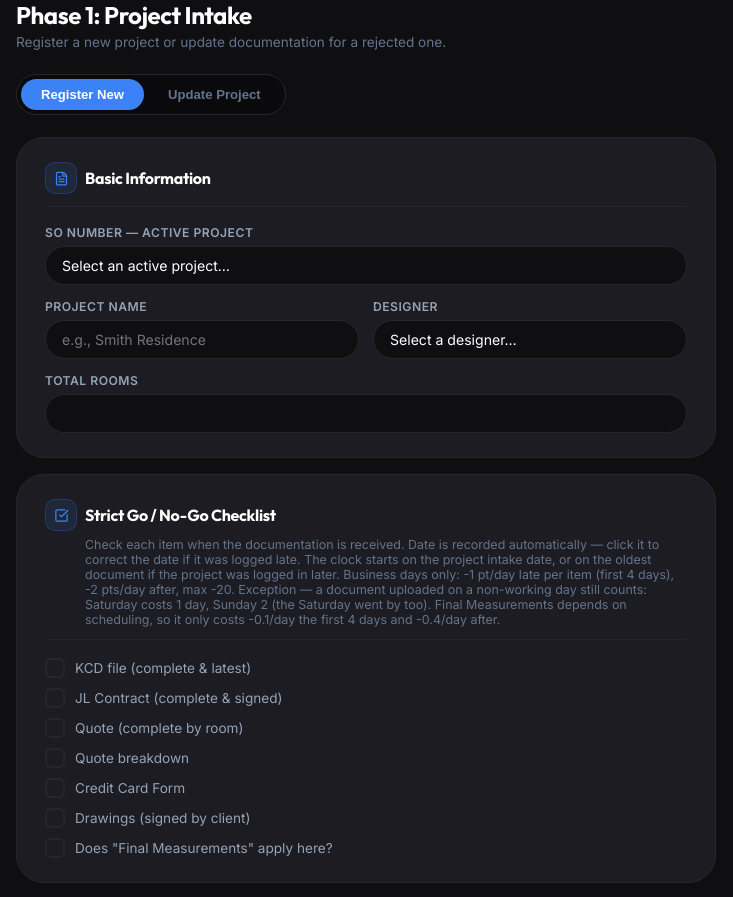
cambiar de proyecto en Register New › volver a la opcion vacia limpia el formulario
Step 1. Select "#1001 — Alpha Residence (Monica Gabriel)" in the dropdown named "soNumber" below "SO Number — Active Project" → (366, 266), box [45,246,687,285]
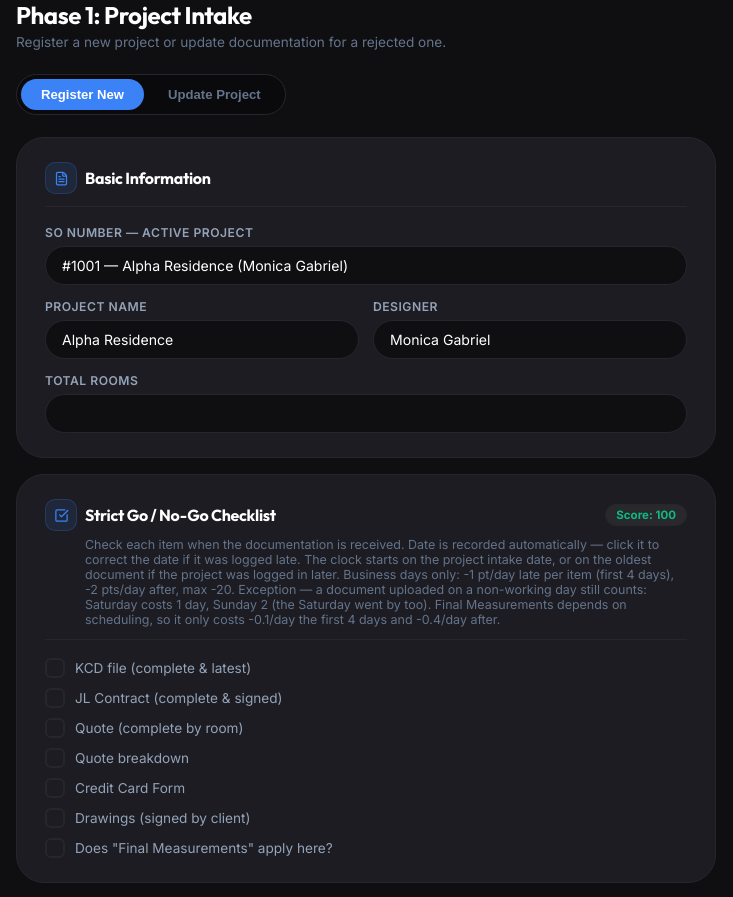
Step 2. Click the checkbox labelled "KCD file (complete & latest)" → (148, 668), box [45,658,251,678]
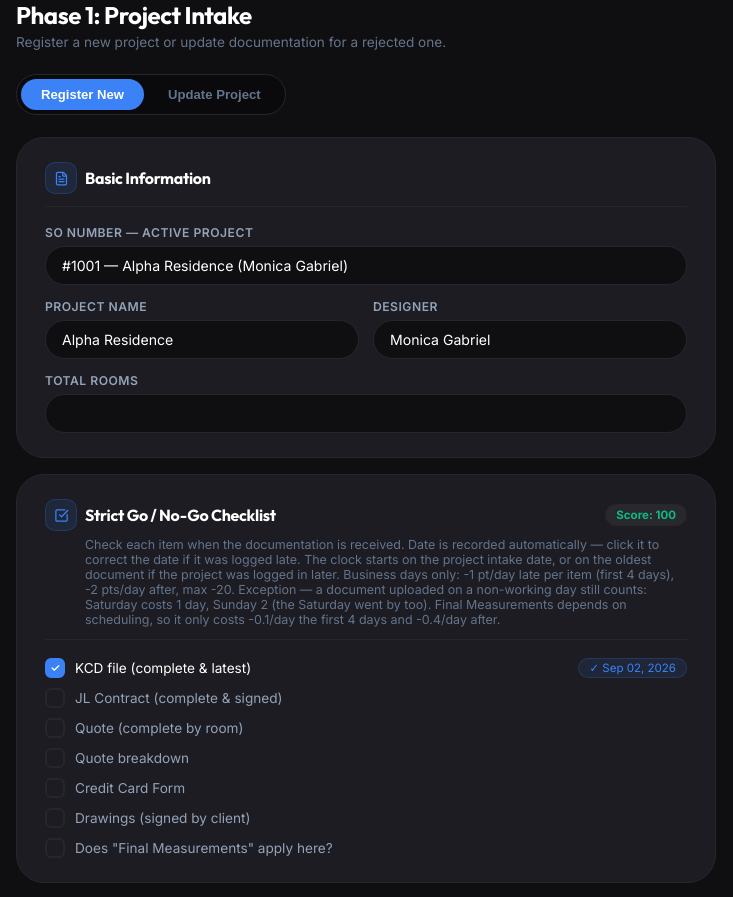
Step 3. Select "Select an active project…" in the dropdown named "soNumber" below "SO Number — Active Project" → (366, 266), box [45,246,687,285]
(page scrolled)
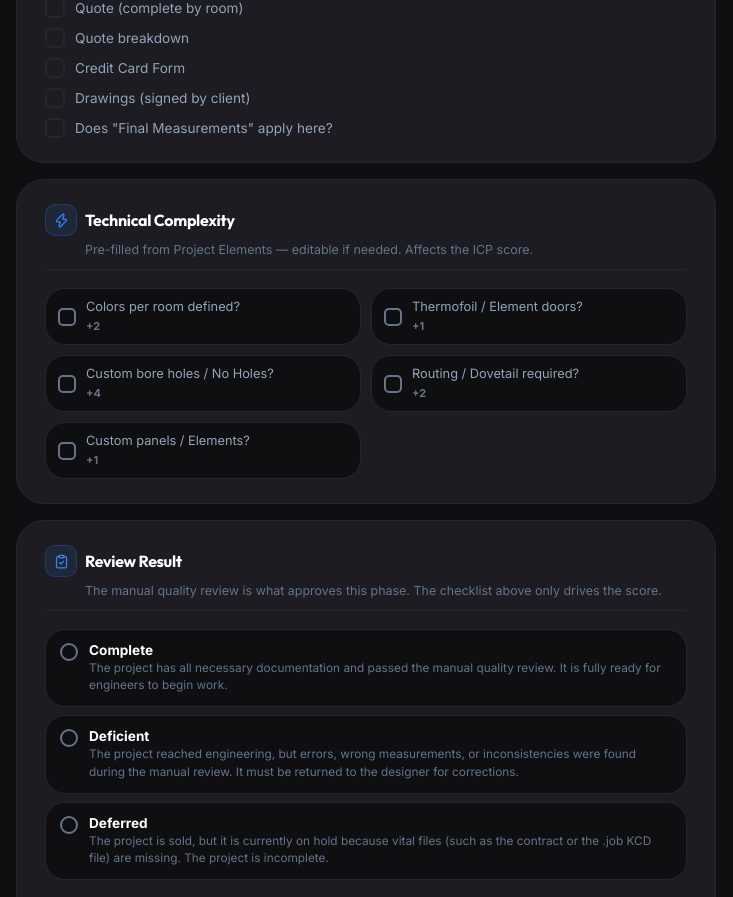
Expected: the checkbox labelled "Custom panels / Elements? +1" is not checked, [45,422,361,479]
